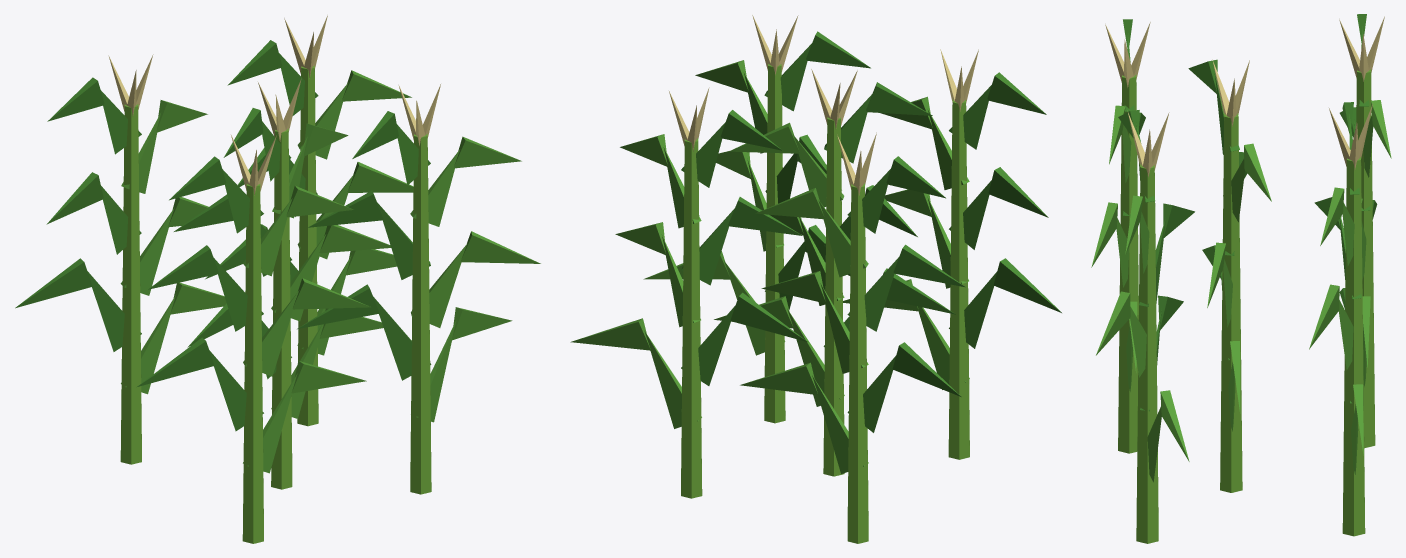
Rendered from corn-3.glb.
3 views of the same model, side by side, from view 1: azimuth 30°, elevation 25°; view 2: azimuth 150°, elevation 25°; view 3: azimuth 270°, elevation 25° (orthographic). The views are drawn at different scales.
Parts seen in each view (by area): view 1: corn-3; view 2: corn-3; view 3: corn-3.
Boxes of the visible parts, bbox=[...] form: corn-3: bbox=[15, 15, 540, 543]; corn-3: bbox=[570, 15, 1061, 543]; corn-3: bbox=[1091, 14, 1391, 543].
Bounding box in the file's own units: 0.8444 × 0.7903 × 0.5112.
1 material, 1 textured.
